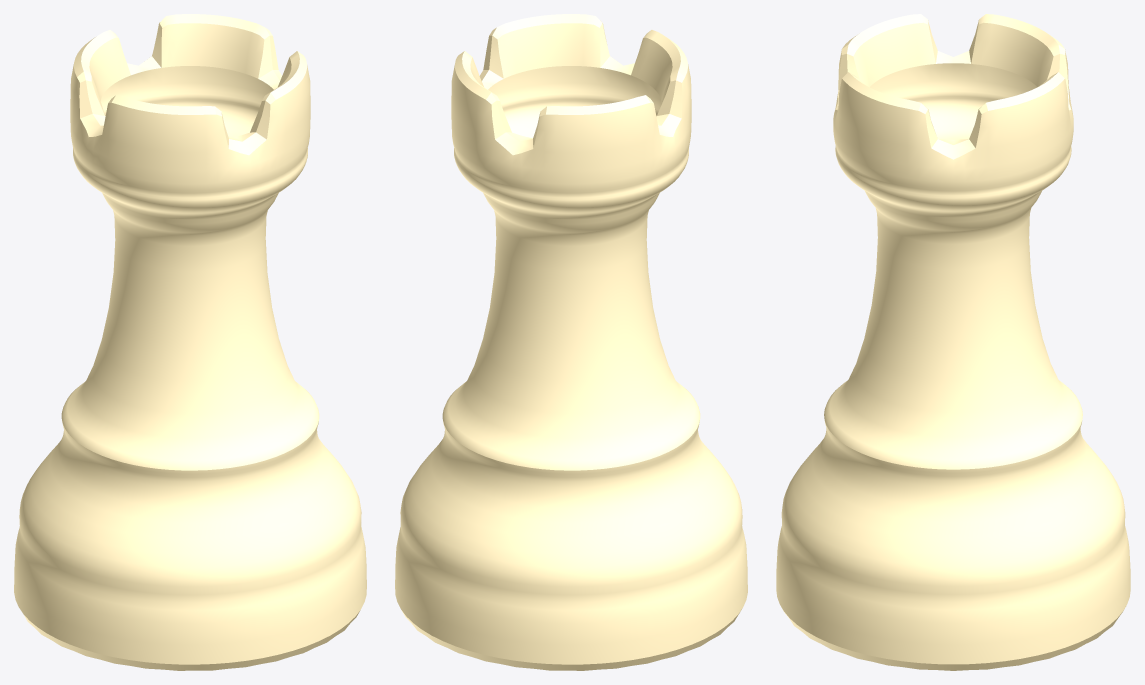
The model's file is Rook.glb.
3 views of the same model, side by side, from view 1: azimuth 30°, elevation 25°; view 2: azimuth 150°, elevation 25°; view 3: azimuth 270°, elevation 25° (orthographic).
Parts seen in each view (by area): view 1: rook_16; view 2: rook_16; view 3: rook_16.
Boxes of the visible parts, x1,y1,x2,y2 form: rook_16: (14, 14, 366, 670); rook_16: (395, 14, 747, 670); rook_16: (776, 14, 1130, 670).
Bounding box in the file's own units: 0.1802 × 0.3038 × 0.1802.
